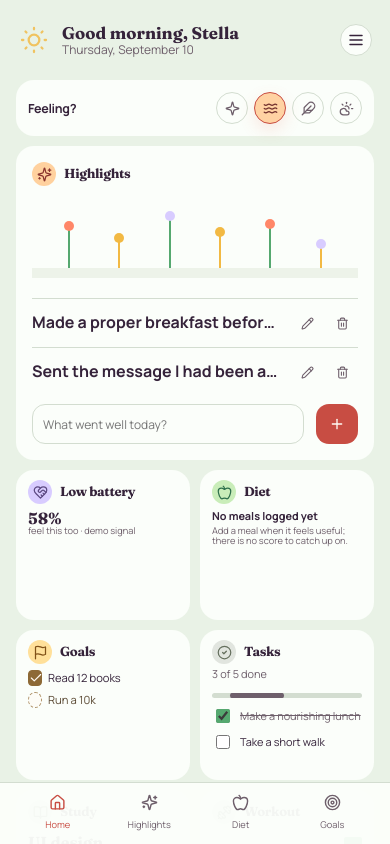
Test: toggles the compact navigation menu
Step 1. Click the button named "Open navigation" → [356, 40], box top-left (340, 24), bottom-right (372, 56)
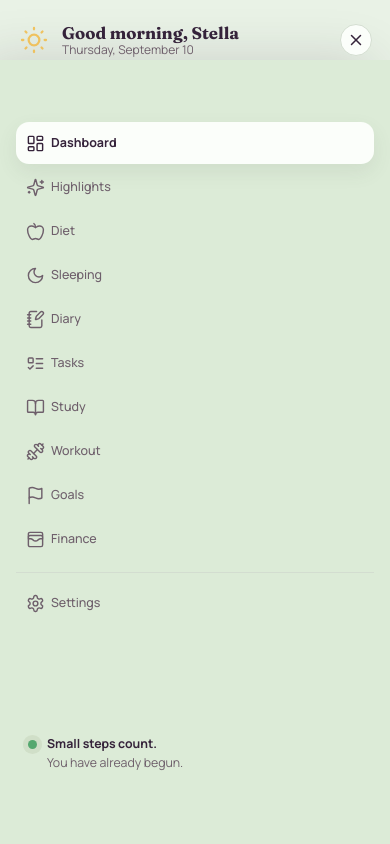
Expected: the button named "Open navigation" next to "Stella" is expanded, top-left (340, 24), bottom-right (372, 56)
Expected: the dialog named "Navigation menu" is shown
